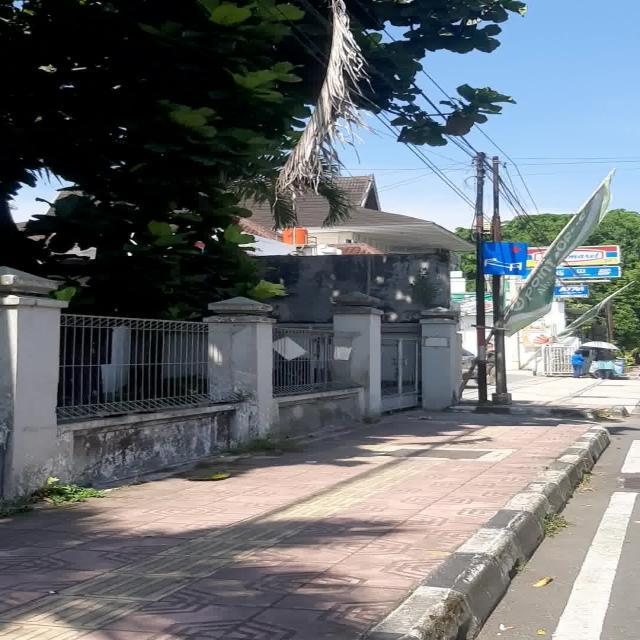Rumah Sakit: (483, 242, 527, 275)
